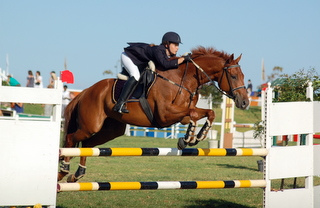person: (111, 32, 186, 116)
